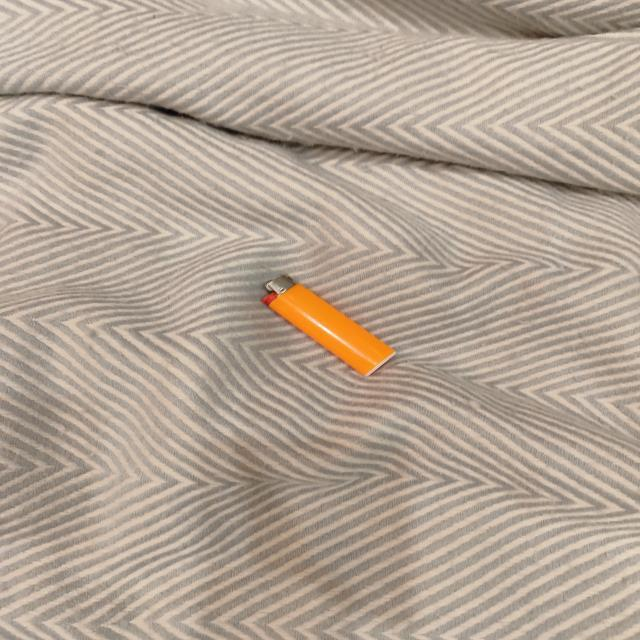lighter: (261, 275, 394, 374)
